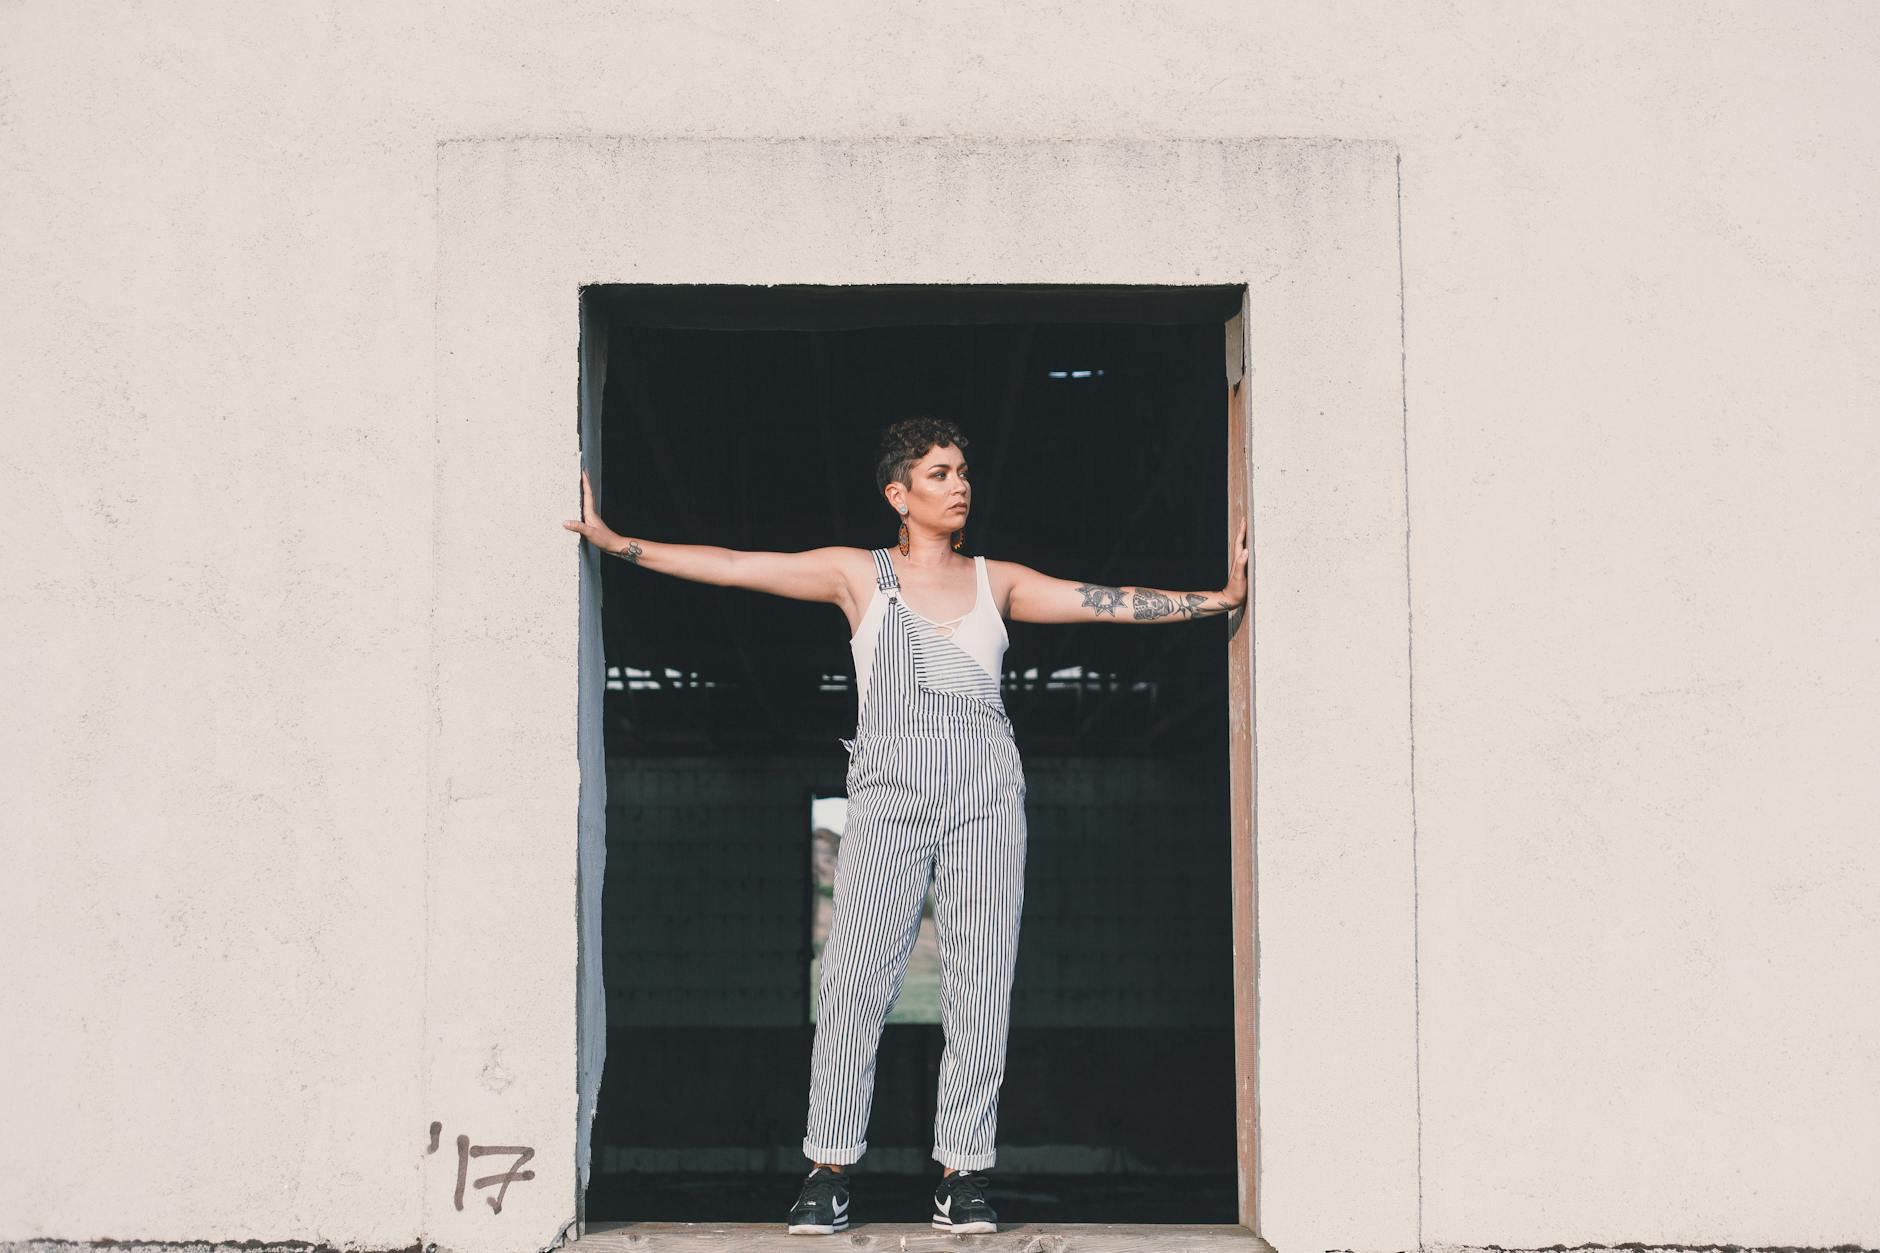sleeveless_top: (847, 540, 1026, 685)
